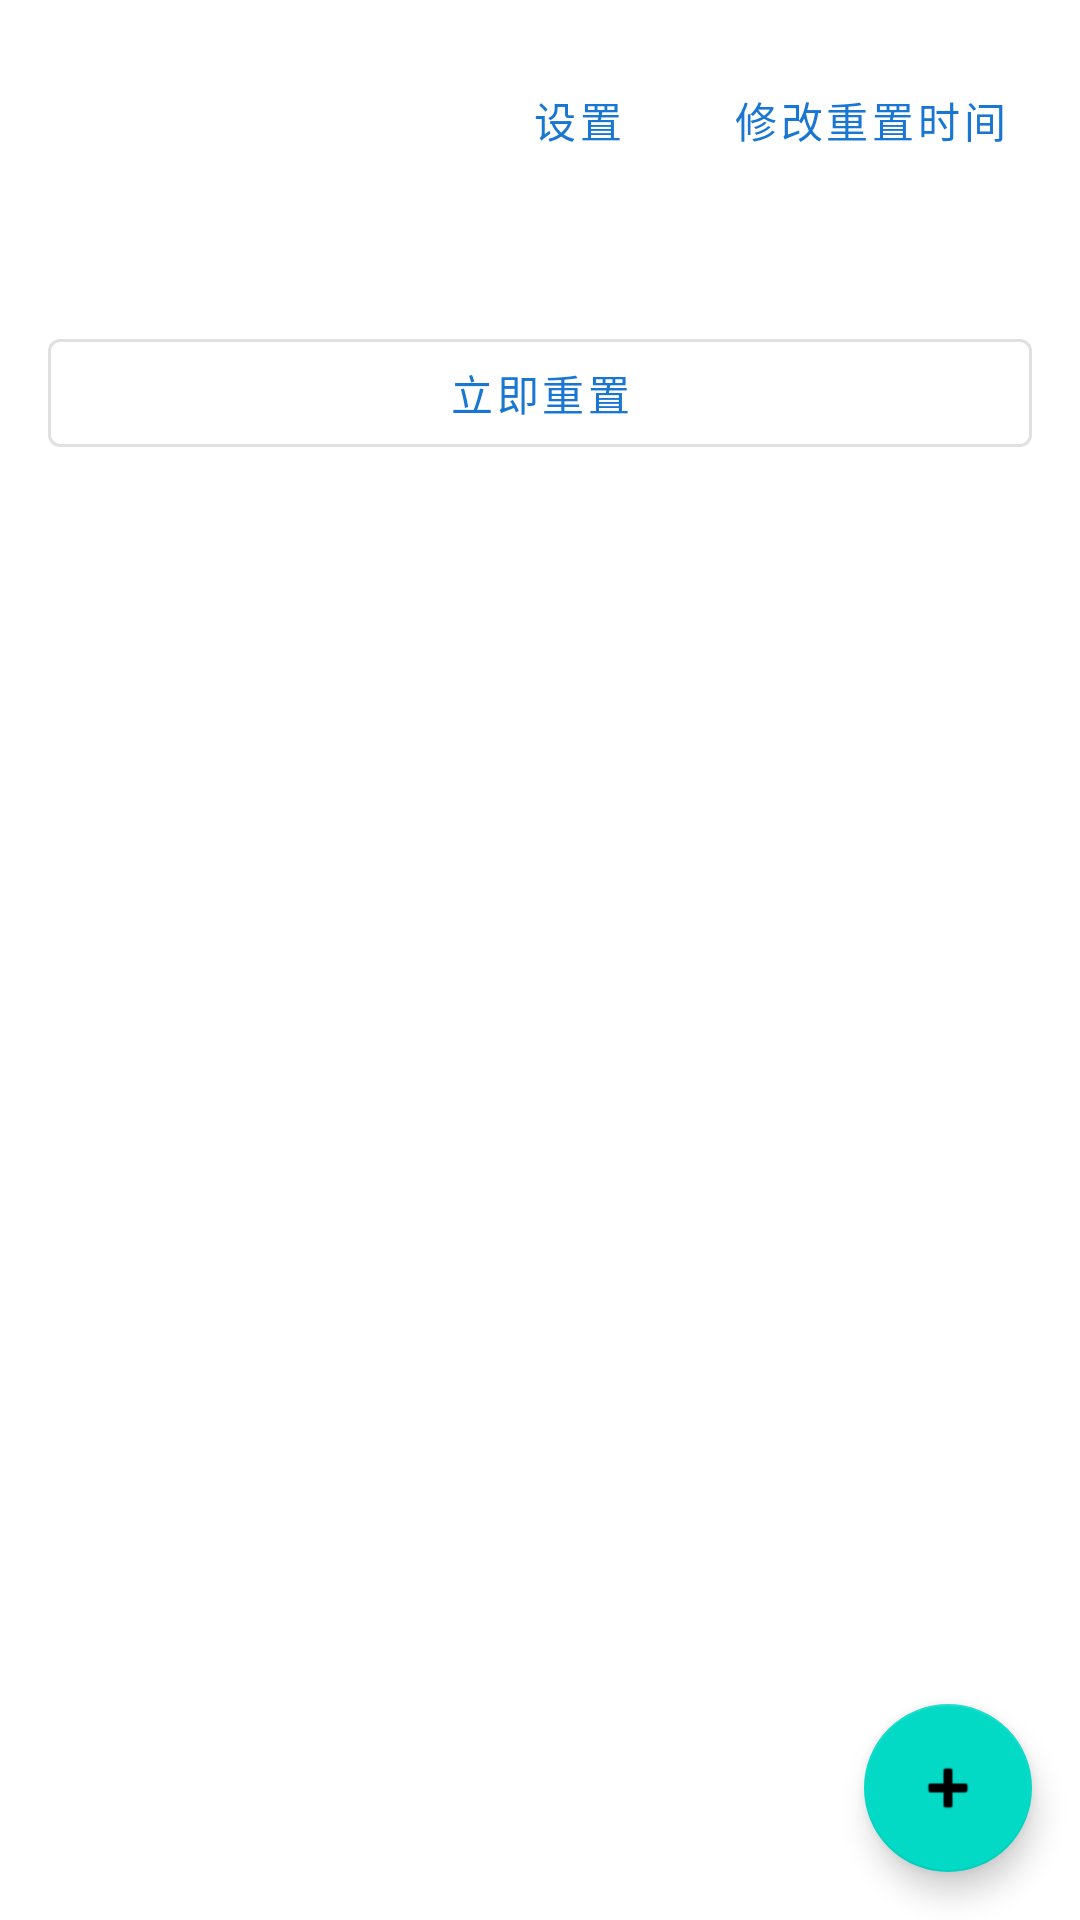

Screen size 1080w x 1920h. Icon name, then its box in pixels as BBox(x1, y1, x2, y2):
添加任务: BBox(864, 1704, 1032, 1872)
